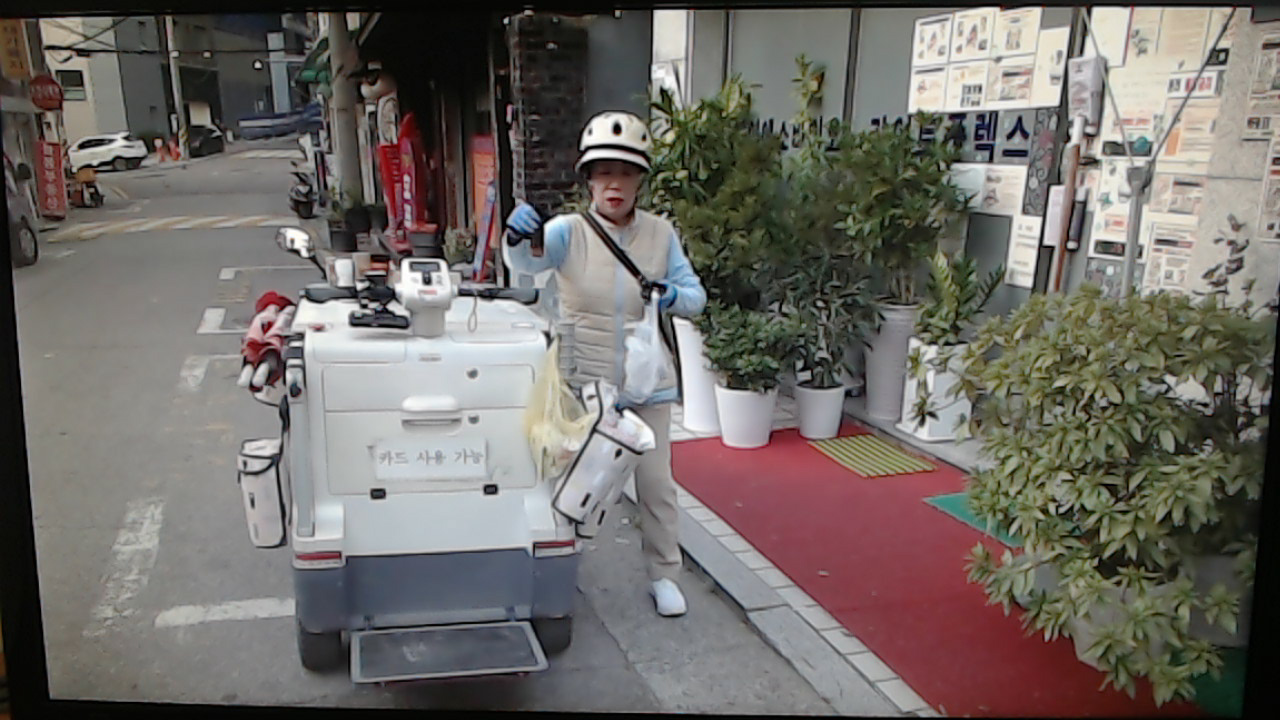Yakurut: (500, 106, 769, 624)
